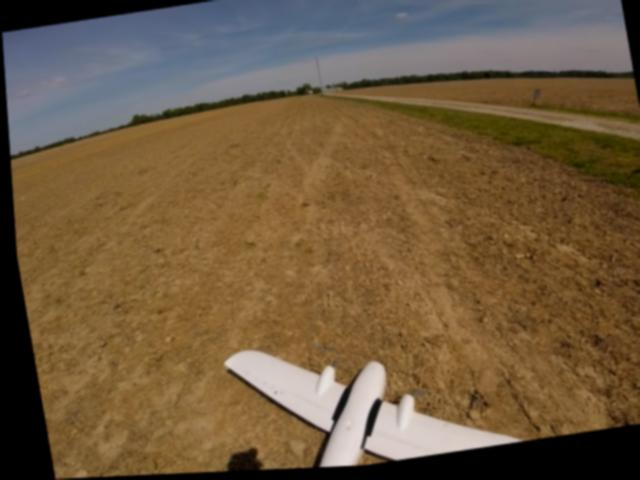plane: (175, 314, 526, 474)
